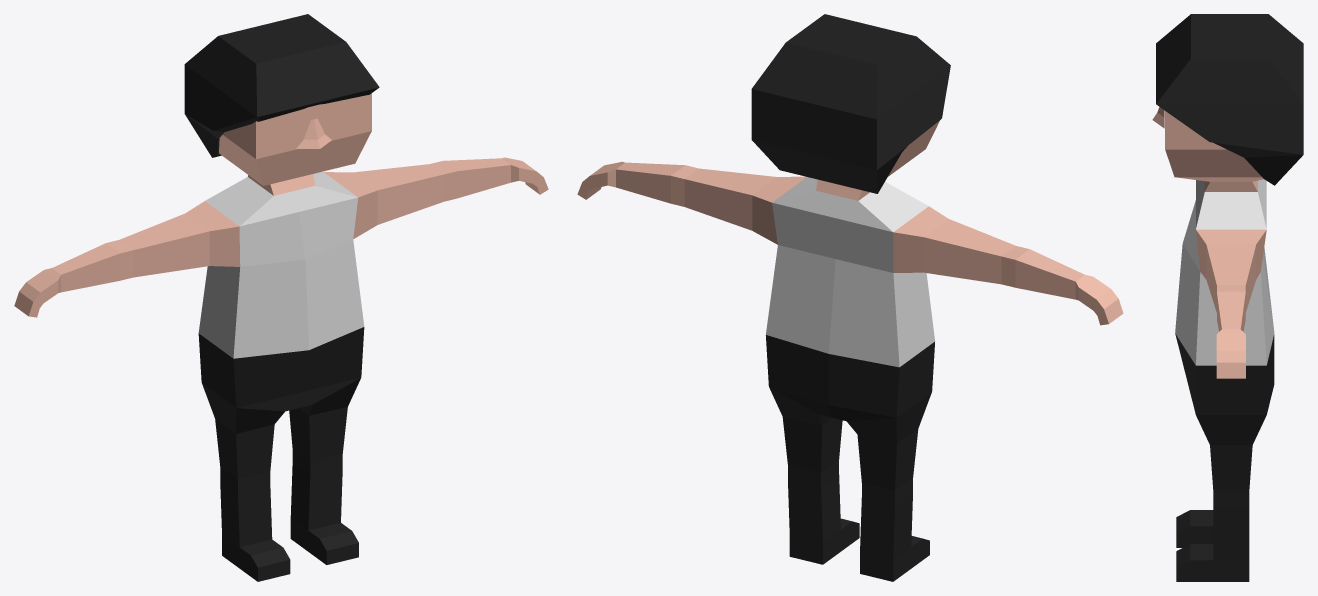
The model's file is npc01.fbx.
3 views of the same model, side by side, from view 1: azimuth 30°, elevation 25°; view 2: azimuth 150°, elevation 25°; view 3: azimuth 270°, elevation 25° (orthographic). The views are drawn at different scales.
Parts seen in each view (by area): view 1: NPC01; view 2: NPC01; view 3: NPC01.
Part boxes in pixels (left/top/right/bottom): NPC01: left=14, top=14, right=548, bottom=581; NPC01: left=577, top=14, right=1123, bottom=581; NPC01: left=1152, top=14, right=1303, bottom=581.
Size of the model in its own units: 2285 by 2147 by 565.
